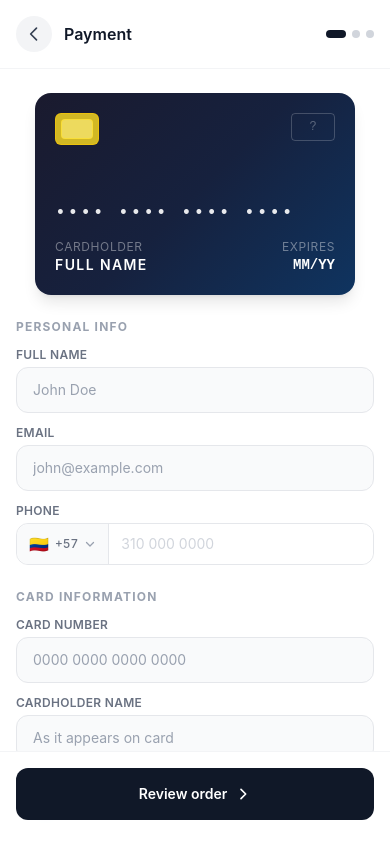
StepCardDelivery component › shows email validation error for invalid email
Type "not-an-email" into the field with placeholder "john@example.com" at (195, 468), box 16,445 -> 374,491
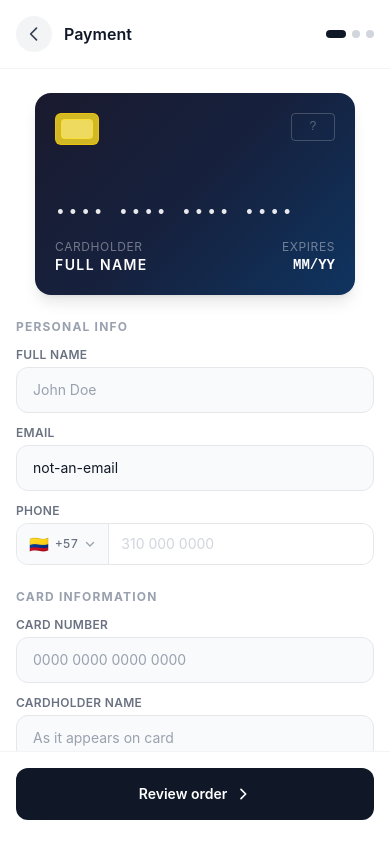
Click the button "Review order" at (195, 794), box 16,768 -> 374,820
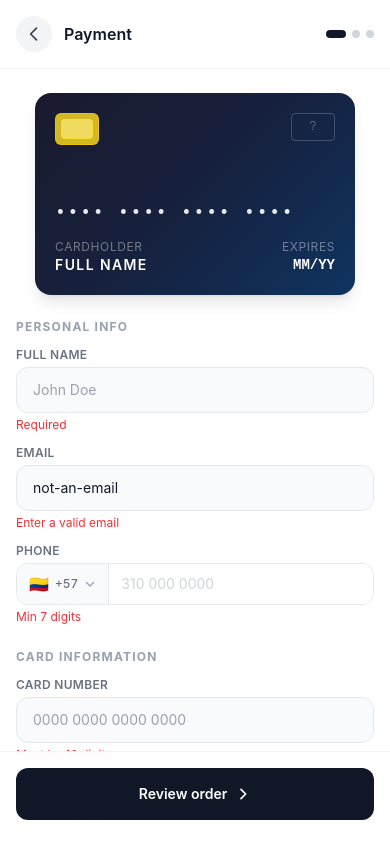
Expected: the text "Enter a valid email" is shown, 16,515 -> 119,530
